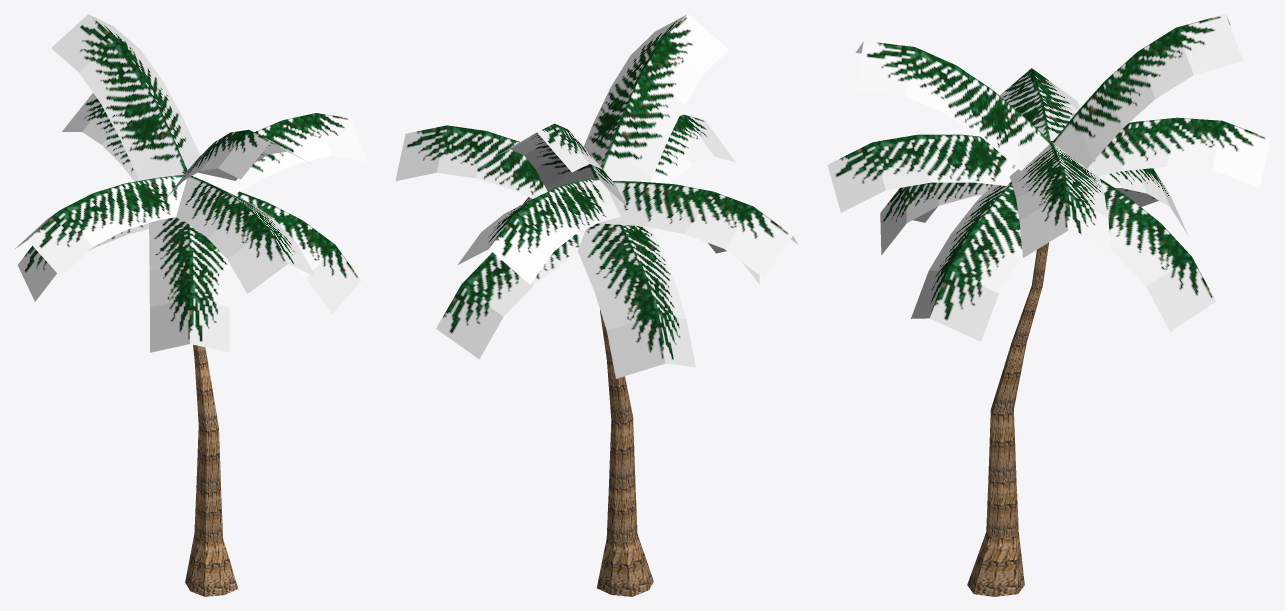
The model's file is PalmTree_1.glb.
The picture shows the model from 3 angles, left to right: view 1: azimuth 30°, elevation 25°; view 2: azimuth 150°, elevation 25°; view 3: azimuth 270°, elevation 25°; orthographic projection. The views are drawn at different scales.
Parts seen in each view (by area): view 1: PalmTree1; view 2: PalmTree1; view 3: PalmTree1.
Boxes of the visible parts, bbox=[...] form: PalmTree1: bbox=[15, 14, 366, 596]; PalmTree1: bbox=[395, 14, 797, 596]; PalmTree1: bbox=[827, 14, 1270, 596].
Size of the model in its own units: 25.64 by 35.9 by 25.75.
Materials: 1 (1 with a texture image).
